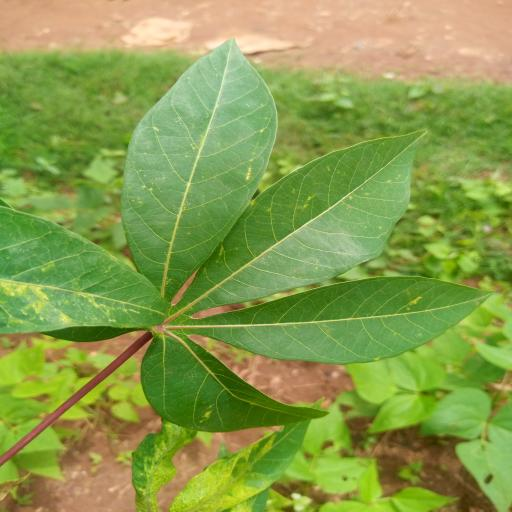Cassava_Mosaic: (4, 32, 490, 436)
